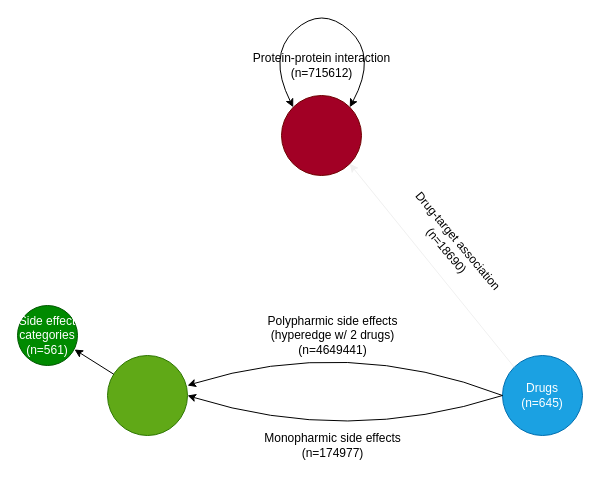
This 600x482 diagram has some shape labels left out. The centre of each missing label's shape, as x and y in pixels:
"Proteins (n=19089)" goes at point (321, 135).
"Side effects (n=11501)" goes at point (147, 395).
